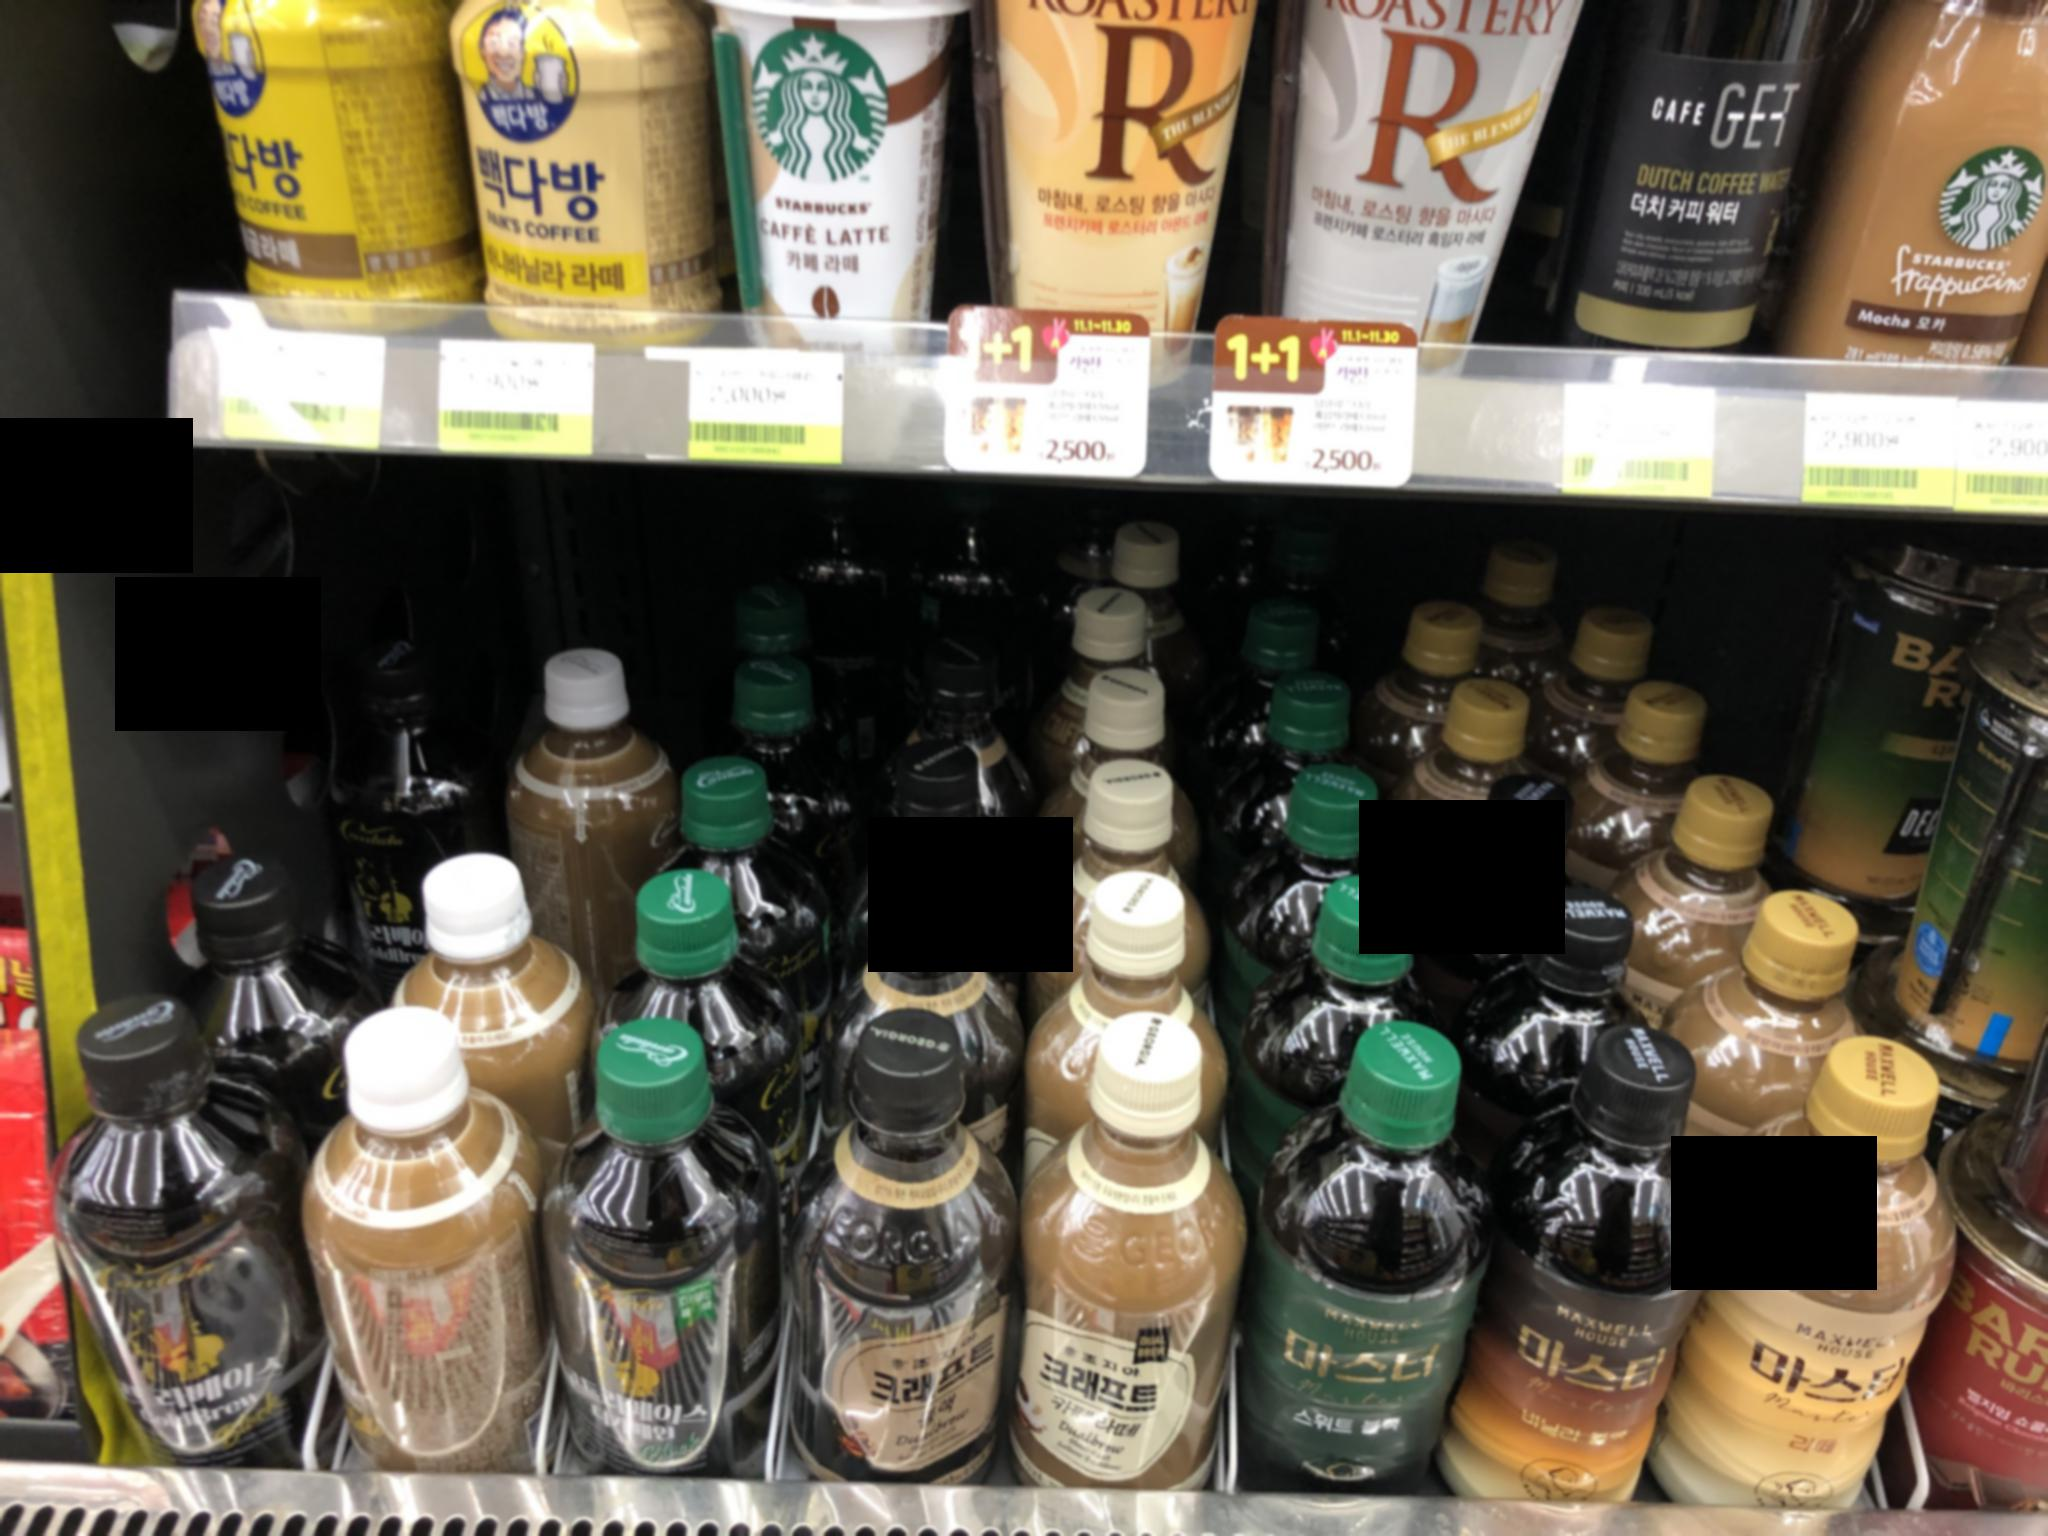georgiacraft_black: (779, 1066, 1018, 1497)
